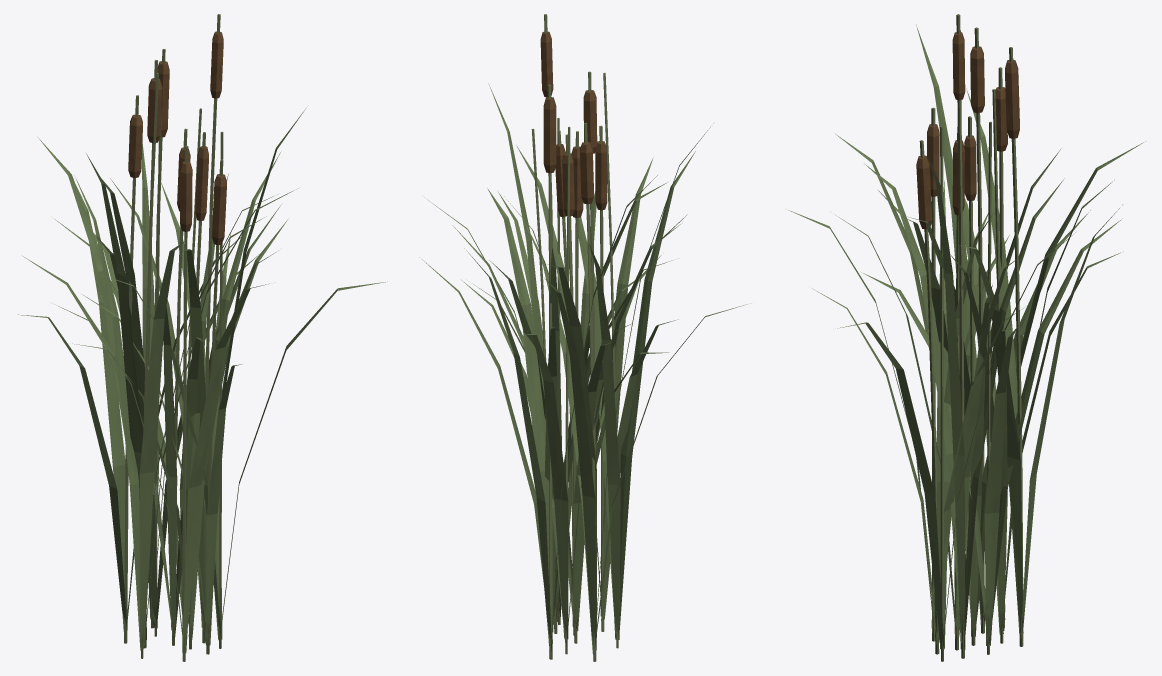
The model's file is lake_cattails_dense.glb.
The picture shows the model from 3 angles, left to right: view 1: azimuth 30°, elevation 25°; view 2: azimuth 150°, elevation 25°; view 3: azimuth 270°, elevation 25°; orthographic projection. The views are drawn at different scales.
Parts seen in each view (by area): view 1: CattailsDense; view 2: CattailsDense; view 3: CattailsDense.
Boxes of the visible parts, x1,y1,x2,y2 form: CattailsDense: [18, 14, 387, 661]; CattailsDense: [419, 14, 746, 661]; CattailsDense: [788, 14, 1145, 661].
Bounding box in the file's own units: 0.8 × 1.5 × 0.7617.
1 material, 1 textured.
